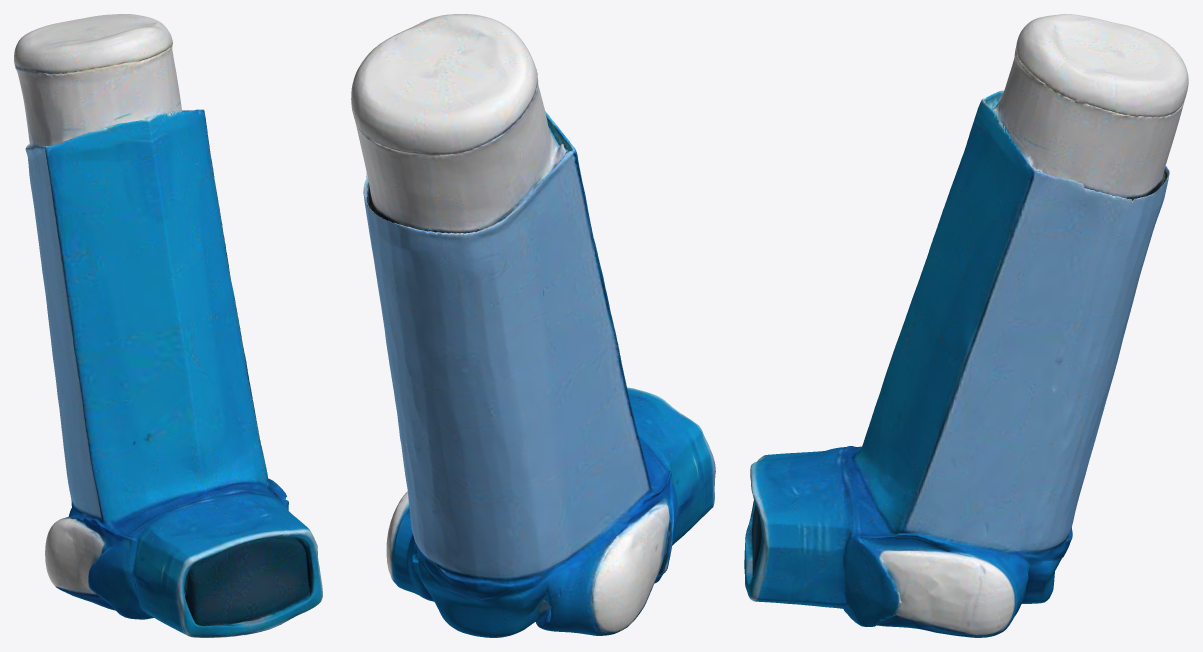
File: prevention-asthma.glb
3 views of the same model, side by side, from view 1: azimuth 30°, elevation 25°; view 2: azimuth 150°, elevation 25°; view 3: azimuth 270°, elevation 25° (orthographic). The views are drawn at different scales.
Parts seen in each view (by area): view 1: Asma4Model; view 2: Asma4Model; view 3: Asma4Model.
Part boxes in pixels (x1,y1,x2,y2): Asma4Model: (14,14,322,637); Asma4Model: (351,14,715,637); Asma4Model: (744,14,1188,637).
Size of the model in its own units: 0.8192 by 2 by 1.42.
1 material, 1 textured.
